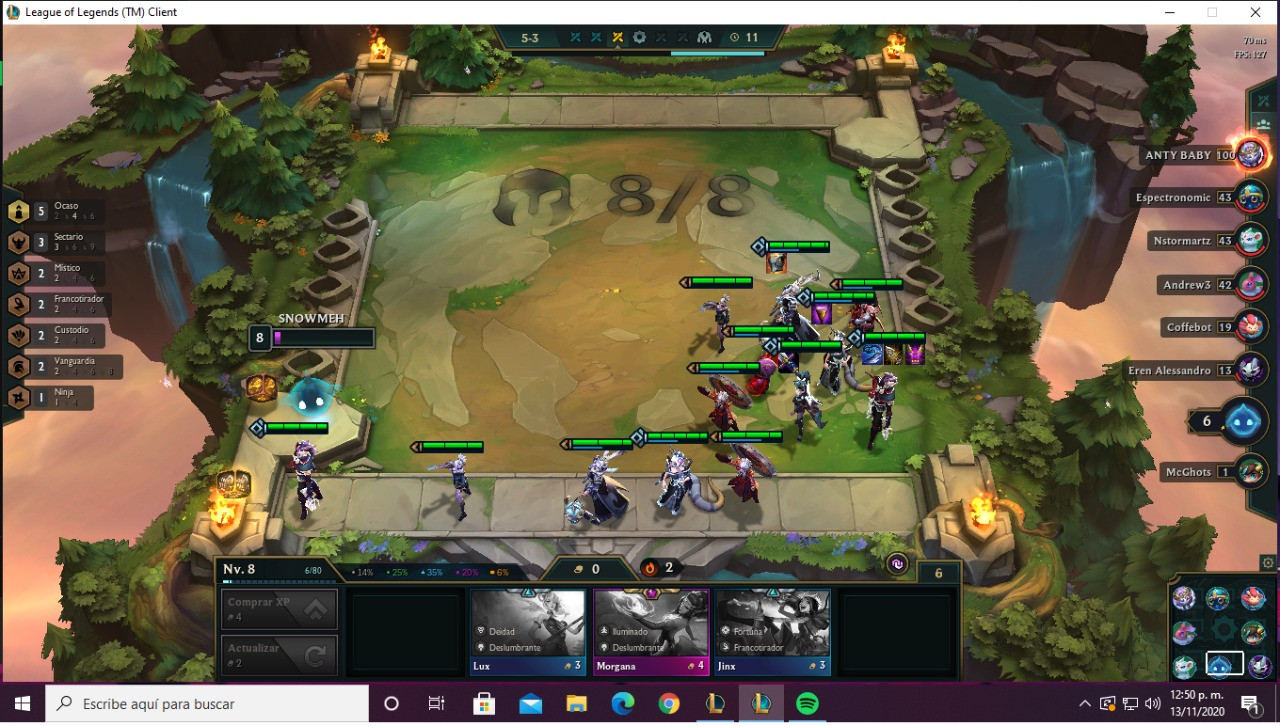1star_aatrox: (824, 266, 907, 365)
1star_kennen: (718, 319, 798, 405)
1star_riven: (673, 269, 756, 368), (406, 432, 492, 527)
1star_thresh: (552, 430, 641, 536)
1star_zilean: (700, 424, 789, 530), (682, 351, 765, 450)
2star_cassiopeia: (791, 281, 892, 409), (625, 422, 733, 529)
2star_jhin: (839, 323, 934, 465), (246, 414, 338, 529)
2star_thresh: (742, 230, 843, 358)
2star_vayne: (758, 334, 852, 453)
item_bf: (775, 348, 800, 375)
item_chalice: (809, 299, 834, 326)
item_dusk: (903, 340, 928, 367)
item_gargoyle: (763, 249, 788, 276)
item_giantslayer: (861, 340, 886, 367)
item_ie: (881, 340, 906, 367)
trait_cultist3: (1, 225, 129, 258)
trait_dusk5: (1, 194, 129, 227)
trait_keeper2: (1, 319, 129, 352)
trait_mystic2: (1, 256, 129, 289)
trait_ninja1: (1, 381, 129, 414)
trait_sharpshooter2: (1, 289, 129, 322)
trait_vanguard2: (1, 350, 129, 383)
